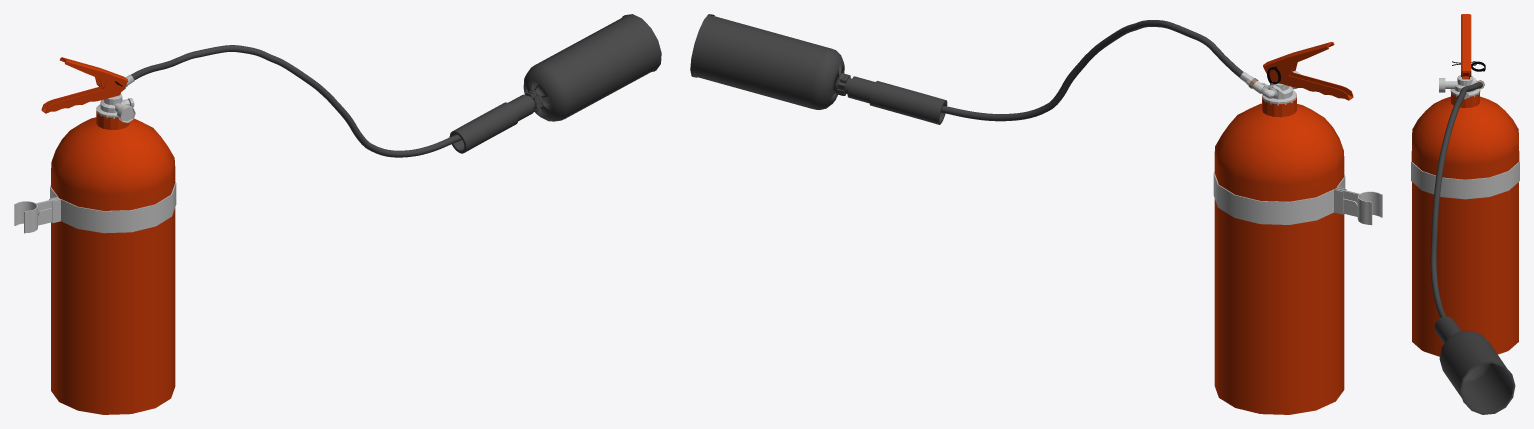
3 views of the same model, side by side, from view 1: azimuth 30°, elevation 25°; view 2: azimuth 150°, elevation 25°; view 3: azimuth 270°, elevation 25° (orthographic). The views are drawn at different scales.
Visible parts, largest first — view 1: polySurface40, polySurface39, polySurface44, polySurface43; view 2: polySurface40, polySurface39, polySurface44, polySurface43; view 3: polySurface40, polySurface39, polySurface43, polySurface38.
Part boxes in pixels (left/top/right/bottom): polySurface40: left=14, top=74, right=176, bottom=414; polySurface39: left=131, top=14, right=661, bottom=157; polySurface44: left=41, top=85, right=121, bottom=113; polySurface43: left=60, top=57, right=127, bottom=91; polySurface40: left=1213, top=72, right=1382, bottom=414; polySurface39: left=690, top=14, right=1243, bottom=124; polySurface44: left=1270, top=70, right=1353, bottom=100; polySurface43: left=1263, top=42, right=1334, bottom=77; polySurface40: left=1411, top=75, right=1519, bottom=356; polySurface39: left=1430, top=82, right=1515, bottom=414; polySurface43: left=1461, top=14, right=1471, bottom=76; polySurface38: left=1452, top=61, right=1485, bottom=71.
Bounding box in the file's own units: 92.35 × 47.09 × 15.4.
